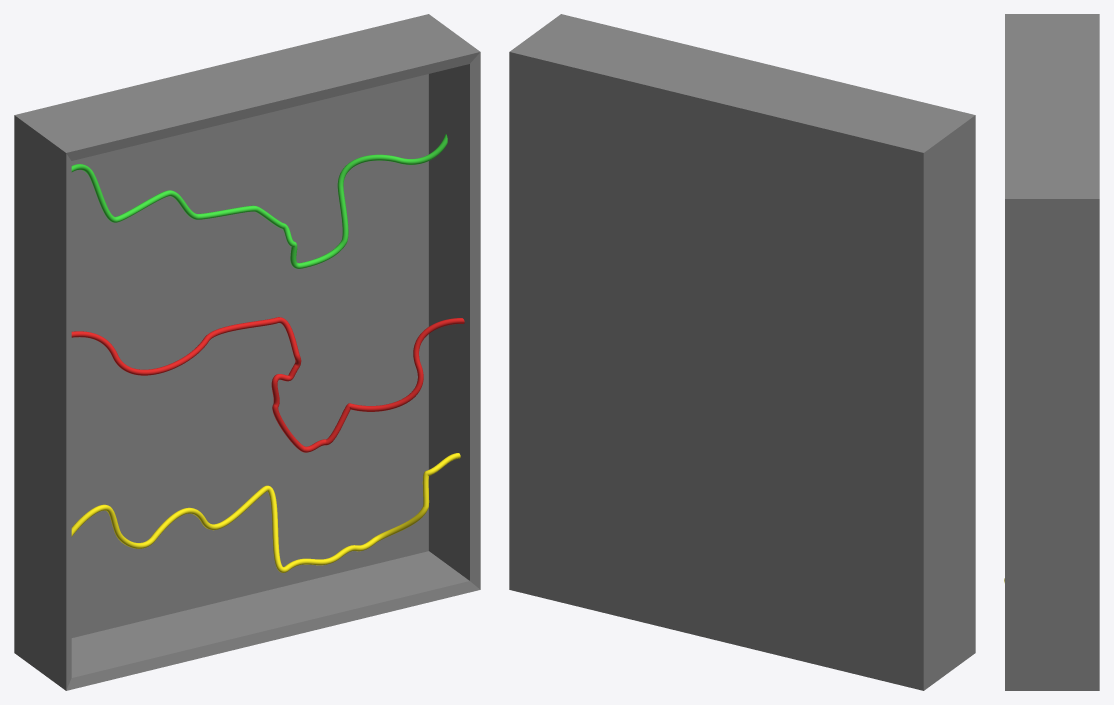
The model's file is FixedWires.fbx.
3 renders of one model, left to right at view 1: azimuth 30°, elevation 25°; view 2: azimuth 150°, elevation 25°; view 3: azimuth 270°, elevation 25°, orthographic. The views are drawn at different scales.
Parts seen in each view (by area): view 1: notFixedWires.001, BézierCurve.001; view 2: notFixedWires.001; view 3: notFixedWires.001.
Part boxes in pixels (box(x1,y1,x2,y2)): notFixedWires.001: box(14, 14, 480, 690); BézierCurve.001: box(71, 134, 464, 572); notFixedWires.001: box(509, 14, 975, 690); notFixedWires.001: box(1005, 14, 1099, 690).
Size of the model in its own units: 161 by 200 by 35.09.
